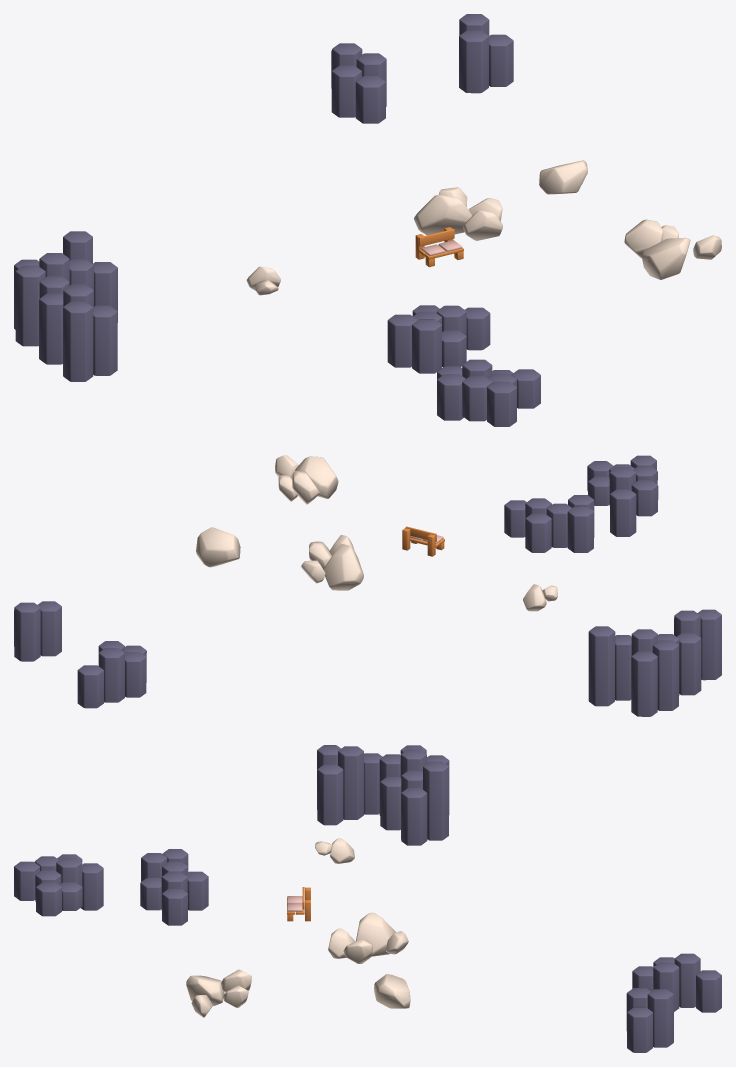
The model's file is sceneryStaticVisual.glb.
The picture shows the model from 3 angles, top to bottom: view 1: azimuth 30°, elevation 25°; view 2: azimuth 150°, elevation 25°; view 3: azimuth 270°, elevation 25°; orthographic projection. The views are drawn at different scales.
Visible parts, largest first — view 1: Cylinder.022, Cube.122, Cube.129, Cube.124, Cube.130, Cube.123, Cube.048; view 2: Cylinder.022, Cube.124, Cube.122, Cube.129, Cube.048, Cube.130, Cube.126, Cube.054; view 3: Cylinder.022, Cube.122, Cube.124, Cube.129, Cube.054, Cube.123.
Part boxes in pixels (x1,y1,x2,y2): Cylinder.022: (14,14,540,426); Cube.122: (414,195,472,235); Cube.129: (642,237,690,279); Cube.124: (539,160,587,194); Cube.130: (624,219,663,258); Cube.123: (463,210,502,240); Cube.048: (415,227,463,267); Cylinder.022: (14,455,721,716); Cube.124: (196,527,240,567); Cube.122: (323,544,363,590); Cube.129: (295,456,338,498); Cube.048: (402,526,444,556); Cube.130: (292,470,320,504); Cube.126: (523,584,546,611); Cube.054: (309,541,331,569); Cylinder.022: (14,745,721,1052); Cube.122: (356,912,395,956); Cube.124: (374,974,410,1008); Cube.129: (186,975,224,1005); Cube.054: (343,938,372,963); Cube.123: (328,928,355,958).
Size of the model in its own units: 35 by 4.32 by 39.8.
